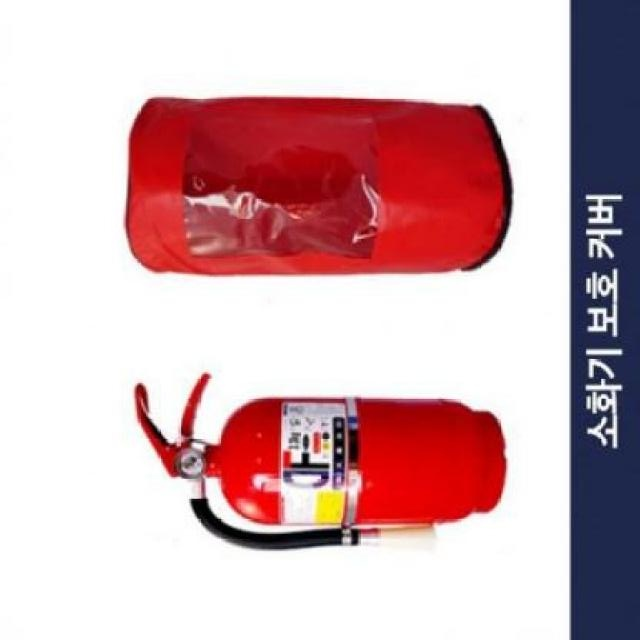fire extinguisher: (133, 372, 509, 552)
